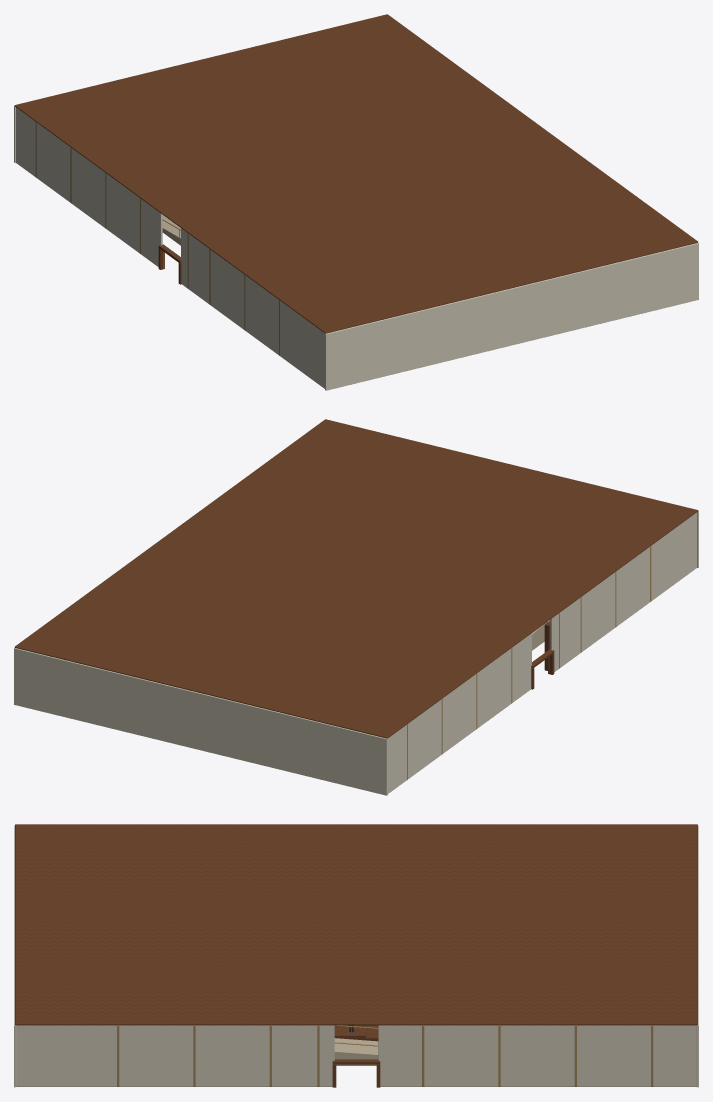
File: SOL_D11_directory_05_source001.glb
The picture shows the model from 3 angles, top to bottom: view 1: azimuth 30°, elevation 25°; view 2: azimuth 150°, elevation 25°; view 3: azimuth 270°, elevation 25°; orthographic projection. The views are drawn at different scales.
Parts seen in each view (by area): view 1: E_ceiling, E_outer_north, E_outer_west0, E_outer_west1; view 2: E_ceiling, E_outer_south, E_outer_west1, E_outer_west0; view 3: E_ceiling, E_outer_east1, E_outer_east0, E_return_ramp1.
Part boxes in pixels (<box>): E_ceiling: <box>14,14,698,333</box>; E_outer_north: <box>325,243,698,390</box>; E_outer_west0: <box>16,107,162,266</box>; E_outer_west1: <box>181,228,324,388</box>; E_ceiling: <box>14,419,698,738</box>; E_outer_south: <box>14,648,387,795</box>; E_outer_west1: <box>550,512,696,671</box>; E_outer_west0: <box>388,633,531,793</box>; E_ceiling: <box>15,824,697,1025</box>; E_outer_east1: <box>16,1025,334,1086</box>; E_outer_east0: <box>378,1025,696,1086</box>; E_return_ramp1: <box>334,1038,378,1065</box>.
Bounding box in the file's own units: 49.75 × 7.34 × 71.84.
Materials: 15 (15 with a texture image).
